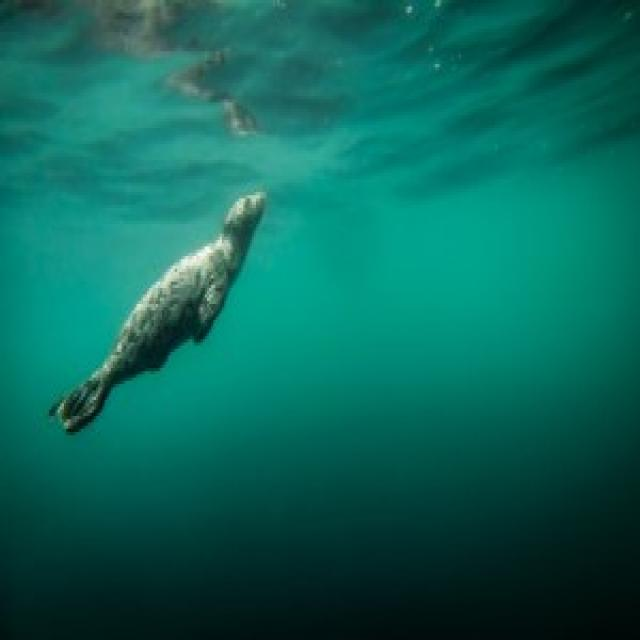Seal: (42, 179, 274, 441)
